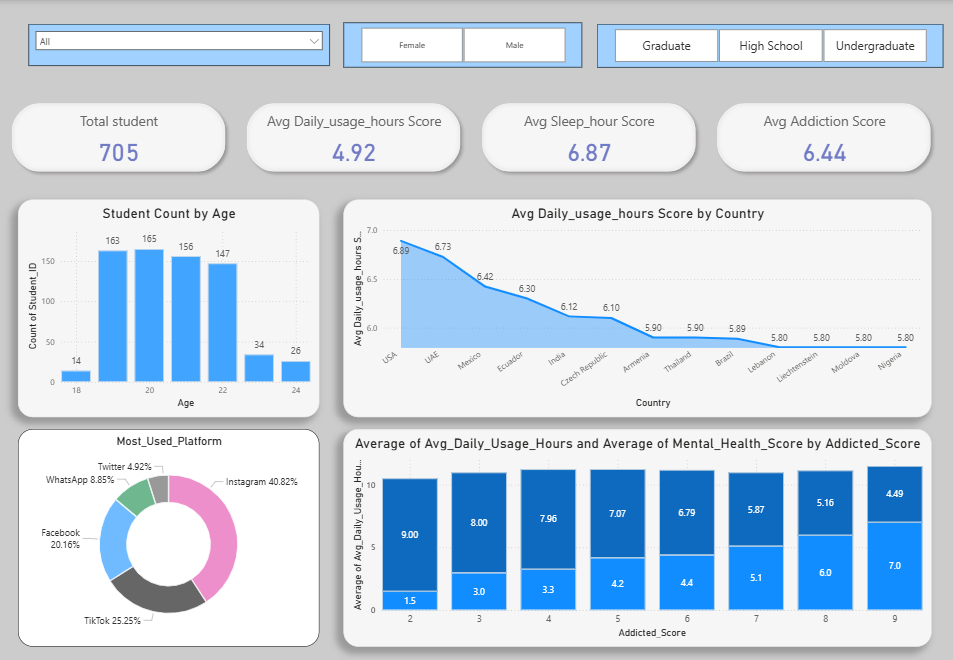

This screenshot's page, from the dashboard's own definition file:
{"tool":"powerbi","page":{"name":"Page 2","canvas":[1400,974],"ordinal":1},"visuals":[{"type":"cardVisual","fields":{"Data":["studentSocialMediaaddiction.Total student","studentSocialMediaaddiction.Avg Daily_usage_hours Score","studentSocialMediaaddiction.Avg Sleep_hour Score","studentSocialMediaaddiction.Avg Addiction Score"]},"box":[0,116.6,1384,151.8],"z":0},{"type":"columnChart","title":" Student Count by Age","fields":{"Category":["studentSocialMediaaddiction.Age"],"Y":["CountNonNull(studentSocialMediaaddiction.Student_ID)"]},"box":[26.4,292.6,442.3,319.1],"z":1000},{"type":"columnChart","fields":{"Category":["studentSocialMediaaddiction.Addicted_Score"],"Y":["Avg(studentSocialMediaaddiction.Avg_Daily_Usage_Hours)","Avg(studentSocialMediaaddiction.Mental_Health_Score)"]},"box":[503.9,629.3,862.5,319.1],"z":2000},{"type":"donutChart","title":"  Most_Used_Platform","fields":{"Category":["studentSocialMediaaddiction.Most_Used_Platform"],"Y":["CountNonNull(studentSocialMediaaddiction.Student_ID)"]},"box":[26.4,629.3,442.3,319.1],"z":3000},{"type":"areaChart","fields":{"Category":["studentSocialMediaaddiction.Country"],"Y":["studentSocialMediaaddiction.Avg Daily_usage_hours Score"]},"box":[503.9,292.6,862.5,319.1],"z":4000},{"type":"slicer","fields":{"Values":["studentSocialMediaaddiction.Gender"]},"box":[503.9,33,349.9,66],"z":5000},{"type":"slicer","fields":{"Values":["studentSocialMediaaddiction.Academic_Level"]},"box":[875.7,35.2,508.3,63.8],"z":6000},{"type":"slicer","fields":{"Values":["studentSocialMediaaddiction.Country"]},"box":[41.8,35.2,442.3,61.6],"z":7000}]}

Visuals, with their boxes in screenshot pixels (x1, y1, x2, y2), scaled from the page's 1400x974 canvas onto the 953x660 screenshot:
cardVisual - studentSocialMediaaddiction.Total student x studentSocialMediaaddiction.Avg Daily_usage_hours Score: 0, 79, 942, 182
" Student Count by Age" columnChart: 18, 198, 319, 414
columnChart - studentSocialMediaaddiction.Addicted_Score x Avg(studentSocialMediaaddiction.Avg_Daily_Usage_Hours): 343, 426, 930, 643
"  Most_Used_Platform" donutChart: 18, 426, 319, 643
areaChart - studentSocialMediaaddiction.Country x studentSocialMediaaddiction.Avg Daily_usage_hours Score: 343, 198, 930, 414
slicer - studentSocialMediaaddiction.Gender: 343, 22, 581, 67
slicer - studentSocialMediaaddiction.Academic_Level: 596, 24, 942, 67
slicer - studentSocialMediaaddiction.Country: 28, 24, 330, 66
